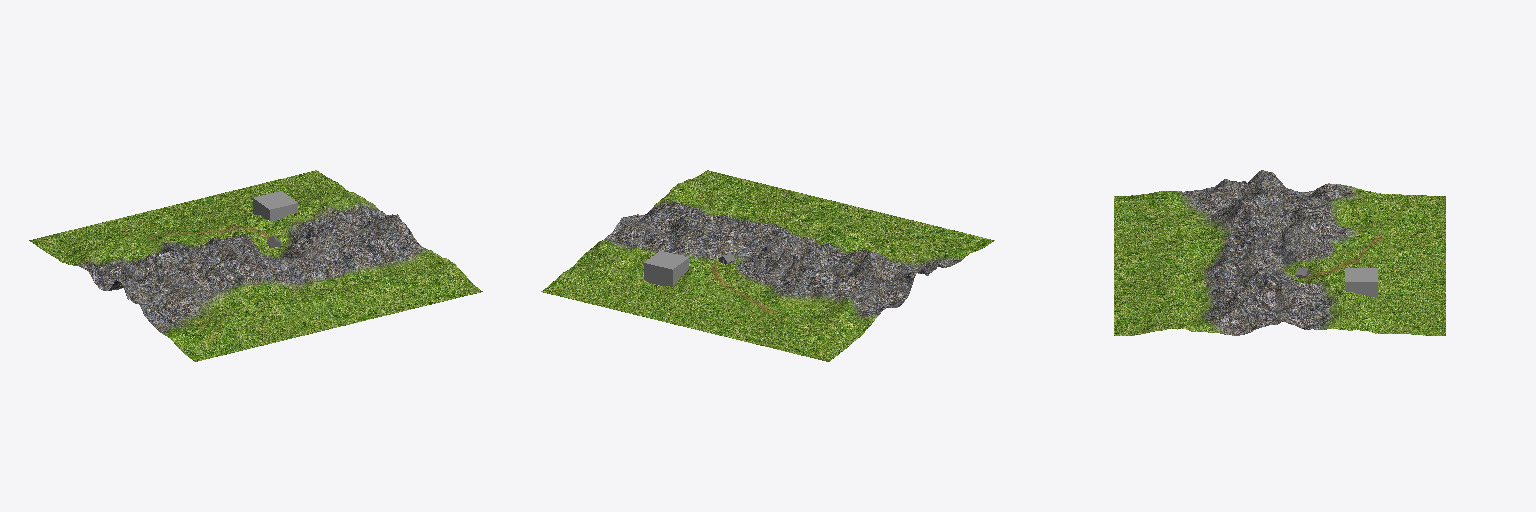
The picture shows the model from 3 angles: view 1: azimuth 30°, elevation 25°; view 2: azimuth 150°, elevation 25°; view 3: azimuth 270°, elevation 25°; orthographic projection.
Parts seen in each view (by area): view 1: Landscape.002, Cube_Cube.001; view 2: Landscape.002, Cube_Cube.001; view 3: Landscape.002, Cube_Cube.001.
Part boxes in pixels (left/top/right/bottom): Landscape.002: left=29, top=170, right=482, bottom=361; Cube_Cube.001: left=253, top=191, right=297, bottom=220; Landscape.002: left=541, top=170, right=994, bottom=361; Cube_Cube.001: left=644, top=251, right=688, bottom=286; Landscape.002: left=1114, top=170, right=1445, bottom=335; Cube_Cube.001: left=1345, top=268, right=1377, bottom=298.
Bounding box in the file's own units: 400 × 50.82 × 400.
Materials: 4 (1 with a texture image).